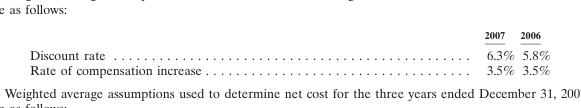table: (29, 28, 549, 77)
table column: (29, 28, 342, 77), (342, 28, 516, 77), (516, 28, 549, 77)
table column header: (29, 28, 549, 43)
table row: (29, 43, 549, 61), (29, 61, 549, 77), (29, 28, 549, 43)
